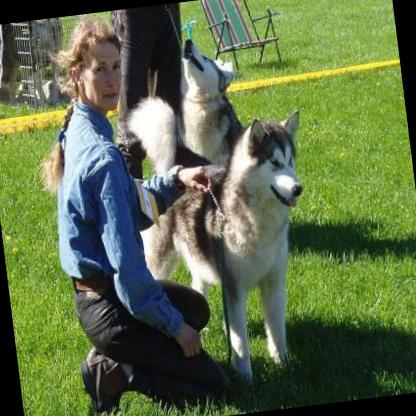malamute: (122, 104, 332, 397), (167, 27, 247, 170)
